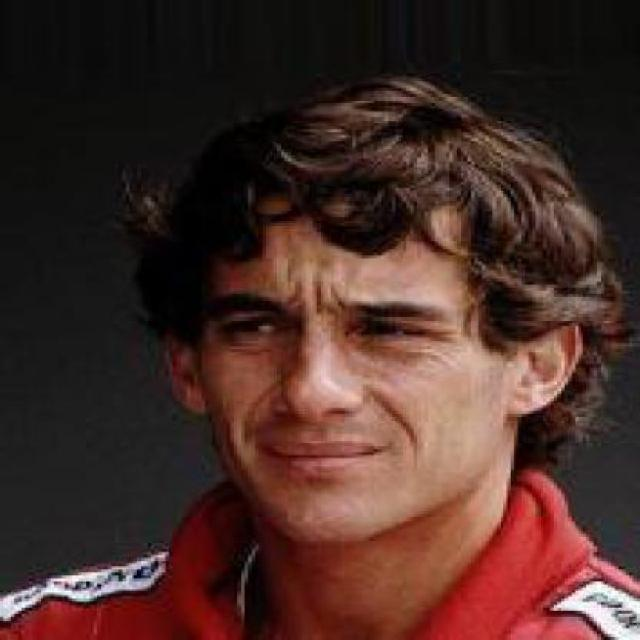closed-mouth: (267, 432, 382, 474)
